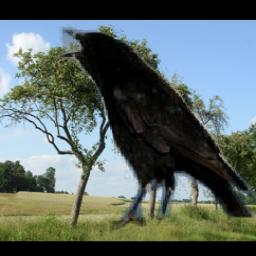Crow: (57, 25, 256, 234)
